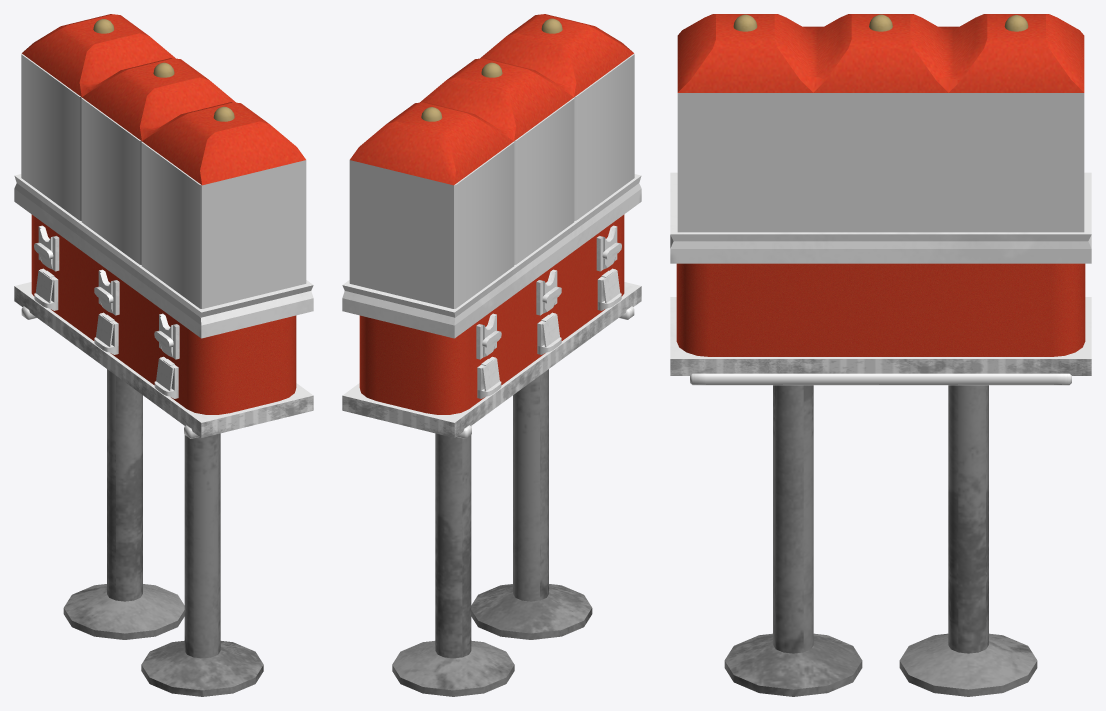
File: Gumbal LOD0.fbx
The picture shows the model from 3 angles, left to right: view 1: azimuth 30°, elevation 25°; view 2: azimuth 150°, elevation 25°; view 3: azimuth 270°, elevation 25°; orthographic projection. The views are drawn at different scales.
Parts seen in each view (by area): view 1: Plane.012; view 2: Plane.012; view 3: Plane.012.
Part boxes in pixels (x1,y1,x2,y2): Plane.012: (14,14,313,696); Plane.012: (342,14,641,696); Plane.012: (670,14,1091,696).
Size of the model in its own units: 26.66 by 120 by 70.03.
